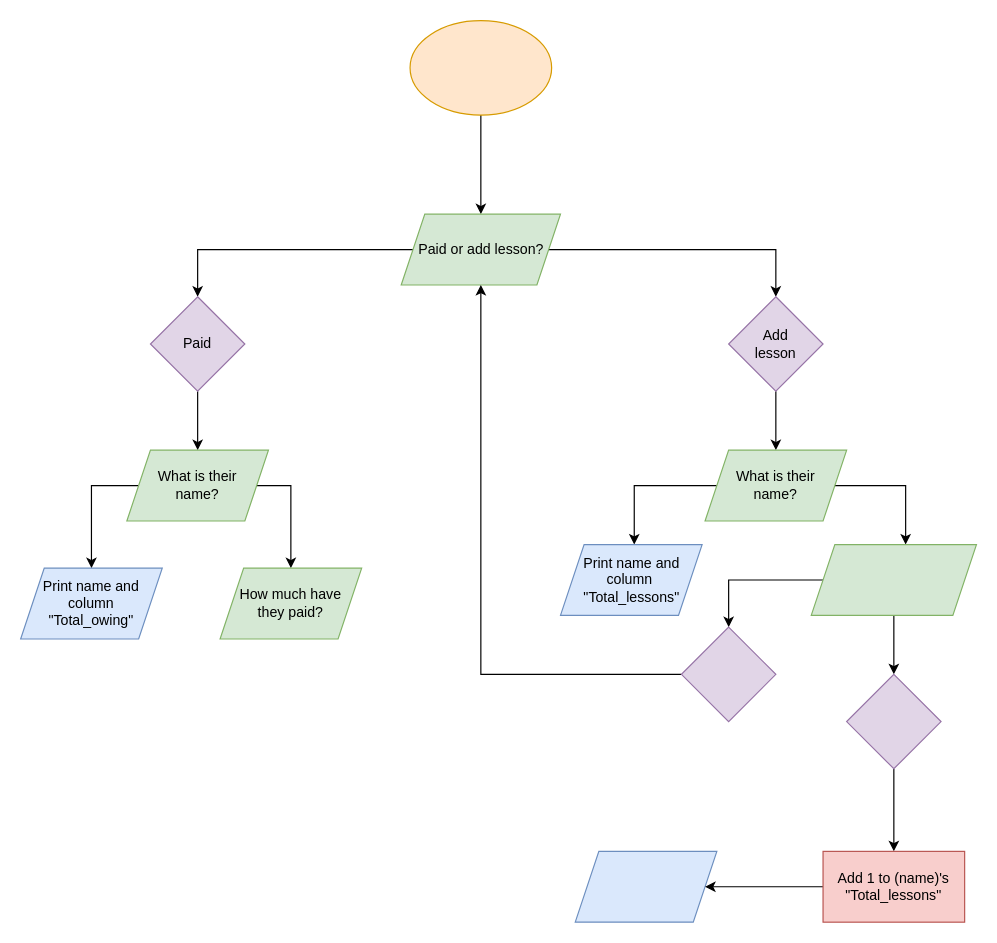
The diagram is 997 pixels wide and 943 high, and some of its shapes have lost their labels. Each missing label, with the box of its shape:
Are you sure you want to add a lesson onto (name)?: (810, 543, 976, 615)
No: (680, 626, 776, 722)
Print name and updated column "Total_lessons": (574, 850, 717, 922)
Start: (409, 19, 552, 115)
Yes: (845, 673, 941, 769)
